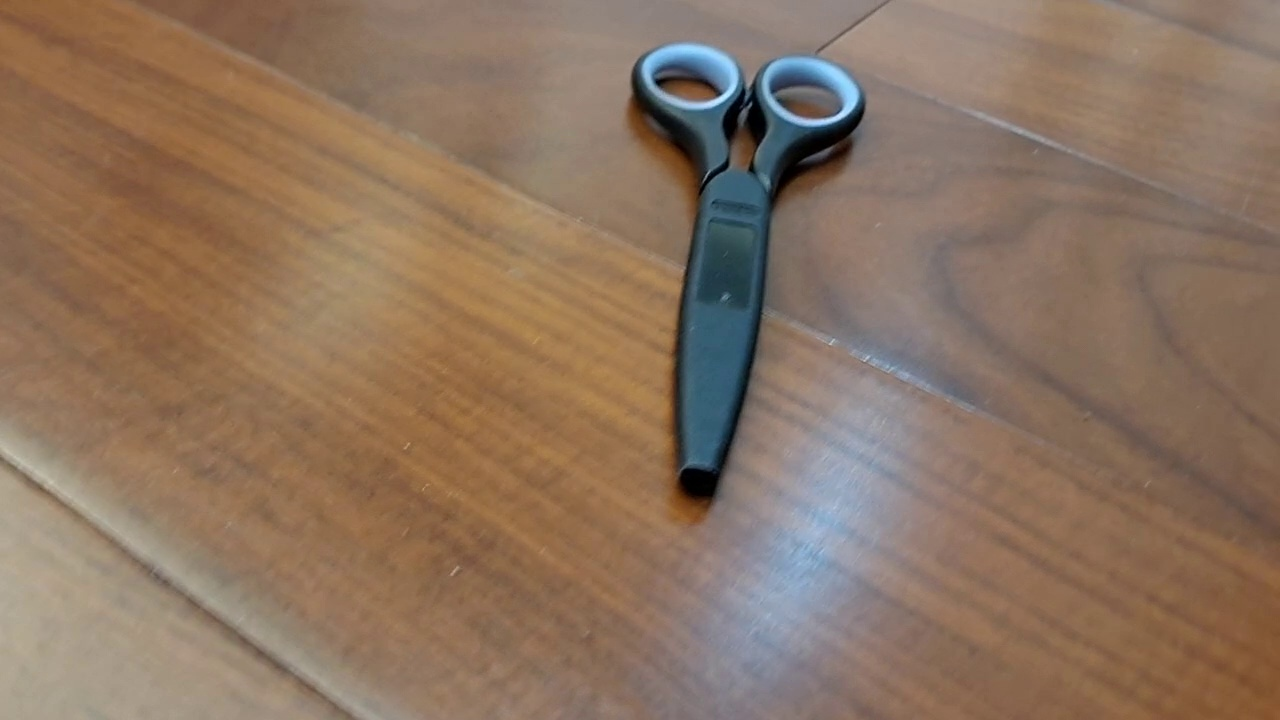scissors: (630, 39, 867, 501)
